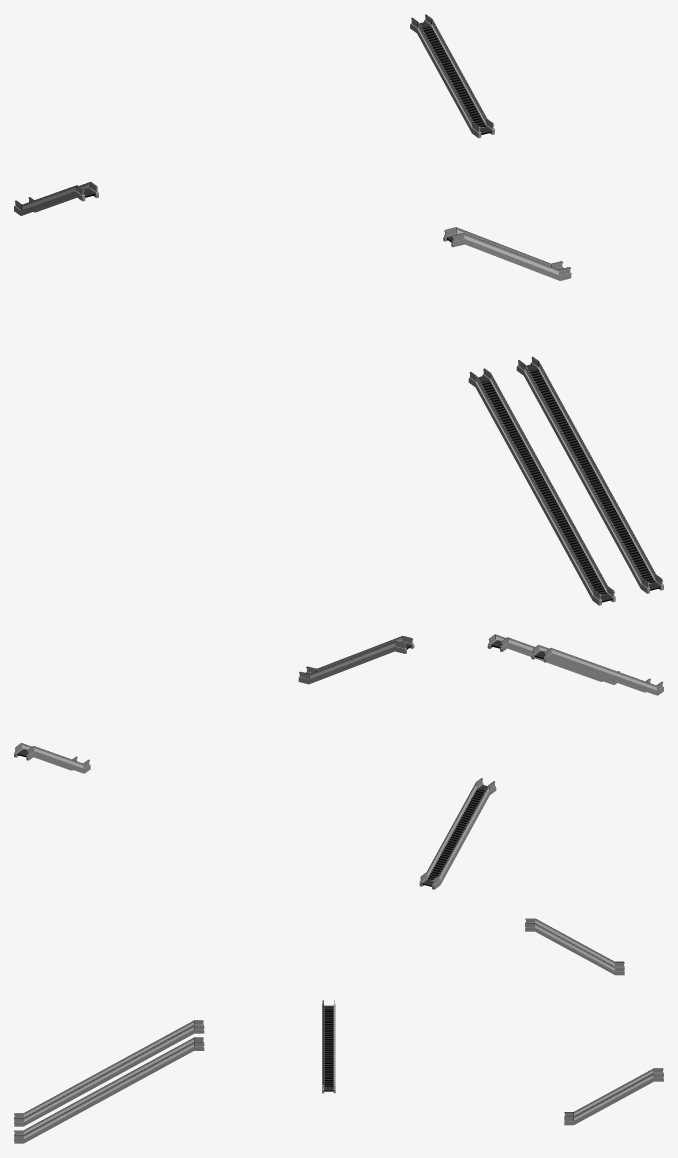
Rendered from EscalerasElectricasMap2.fbx.
3 renders of one model, top to bottom at view 1: azimuth 30°, elevation 25°; view 2: azimuth 150°, elevation 25°; view 3: azimuth 270°, elevation 25°, orthographic. The views are drawn at different scales.
Parts seen in each view (by area): view 1: side.001, side.004, side.002, side.003; view 2: side.001, side.003, side.002, side.004; view 3: side.001, side.003, side.004, side.002.
Part boxes in pixels (x1=…): side.001: x1=468, y1=356, x2=663, y2=605; side.004: x1=410, y1=14, x2=494, y2=138; side.002: x1=443, y1=227, x2=571, y2=280; side.003: x1=14, y1=182, x2=98, y2=215; side.001: x1=487, y1=634, x2=663, y2=695; side.003: x1=419, y1=778, x2=496, y2=889; side.002: x1=298, y1=636, x2=414, y2=684; side.004: x1=14, y1=743, x2=90, y2=773; side.001: x1=14, y1=1020, x2=204, y2=1143; side.003: x1=525, y1=918, x2=624, y2=975; side.004: x1=564, y1=1068, x2=663, y2=1125; side.002: x1=322, y1=1000, x2=335, y2=1093.
Size of the model in its own units: 6513 by 2809 by 11476.
Materials: 5 (1 with a texture image).
